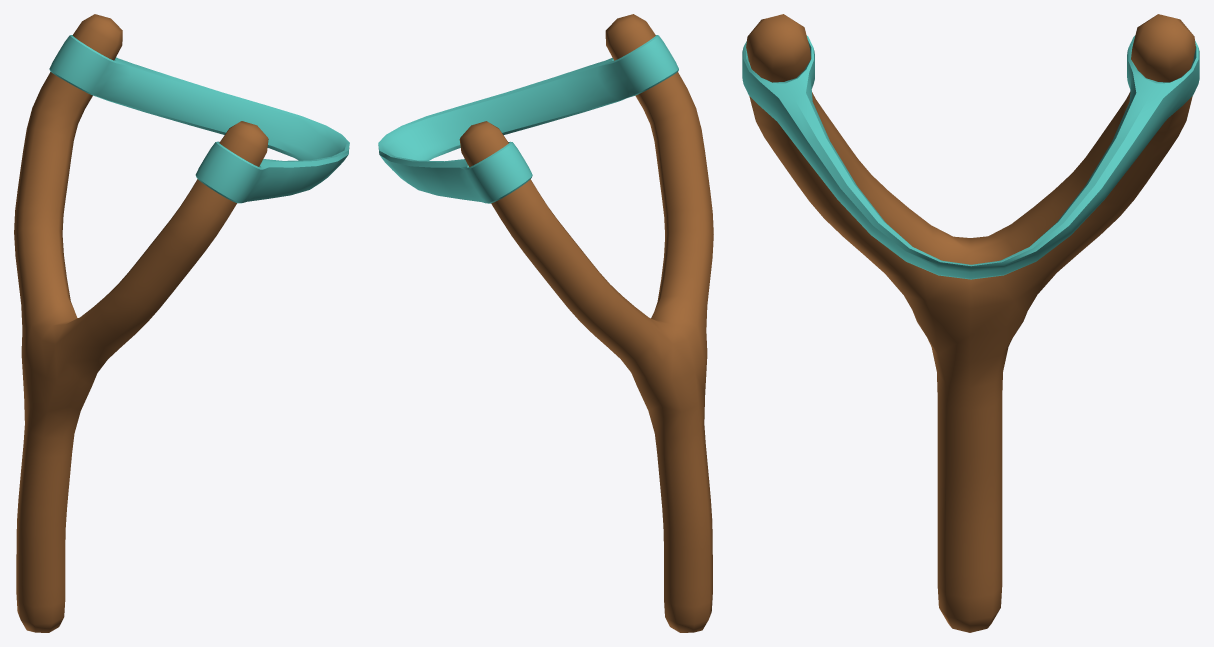
File: rogatka.fbx
The picture shows the model from 3 angles, left to right: view 1: azimuth 30°, elevation 25°; view 2: azimuth 150°, elevation 25°; view 3: azimuth 270°, elevation 25°; orthographic projection. The views are drawn at different scales.
Visible parts, largest first — view 1: Cube, Cube.001; view 2: Cube, Cube.001; view 3: Cube, Cube.001.
Part boxes in pixels (bbox=[...]): Cube: bbox=[14, 14, 268, 632]; Cube.001: bbox=[49, 35, 349, 203]; Cube: bbox=[459, 14, 713, 632]; Cube.001: bbox=[378, 35, 678, 203]; Cube: bbox=[746, 14, 1195, 632]; Cube.001: bbox=[742, 35, 1199, 279].
Bounding box in the file's own units: 38.1 × 59.66 × 35.48.
